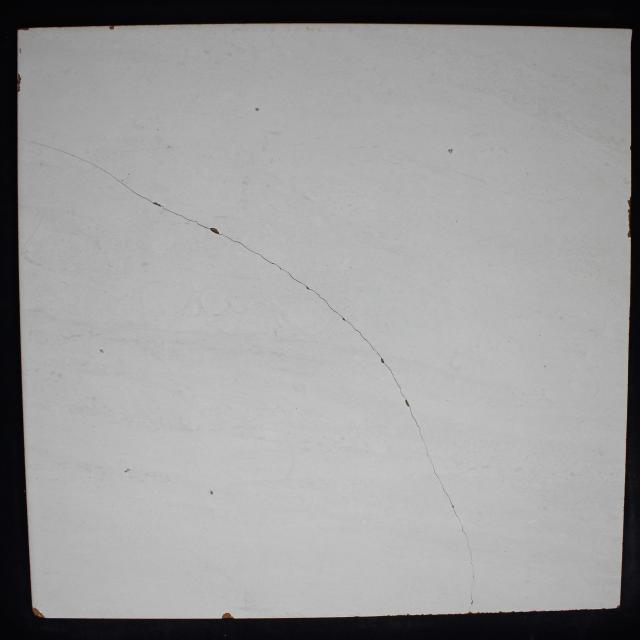edge-chipping: (32, 607, 46, 618), (17, 73, 22, 92), (221, 612, 234, 619), (627, 209, 631, 230), (627, 196, 631, 208), (17, 28, 30, 31), (627, 230, 631, 238), (108, 26, 115, 30), (616, 604, 620, 608)
hole: (210, 227, 220, 235), (405, 399, 410, 406), (448, 148, 453, 154), (124, 468, 130, 473), (255, 107, 259, 112), (342, 316, 346, 321), (99, 349, 104, 353), (381, 358, 384, 363), (210, 491, 213, 495)
line: (410, 408, 442, 483), (95, 165, 153, 203), (17, 139, 94, 165), (442, 485, 469, 544), (346, 321, 381, 356), (264, 259, 305, 285), (221, 235, 264, 259), (384, 363, 406, 399), (312, 290, 342, 316), (168, 210, 208, 228), (467, 544, 476, 604)
